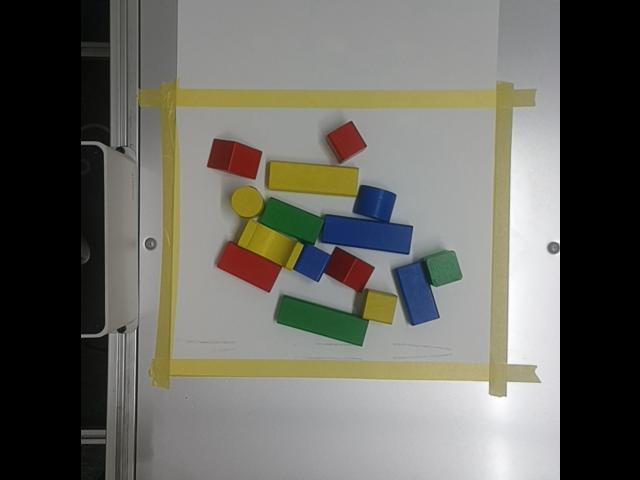blue_cube: (293, 244, 329, 281)
blue_longrect: (320, 214, 412, 254)
blue_rect: (393, 263, 438, 325)
cylinder: (230, 186, 263, 217)
green_cube: (420, 250, 462, 286)
green_longrect: (275, 295, 368, 346)
green_rect: (259, 198, 322, 244)
half_cylinder: (353, 185, 395, 220)
red_cube: (326, 121, 366, 163)
red_rect: (216, 242, 280, 291)
triangle: (207, 139, 261, 179), (324, 248, 373, 291)
yellow_archrect: (236, 220, 303, 270)
yellow_cube: (361, 289, 397, 324)
yellow_longrect: (267, 161, 358, 196)
